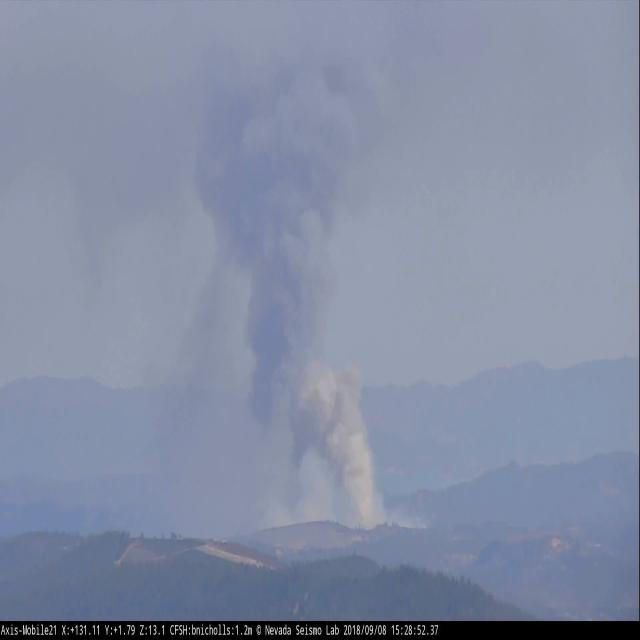smoke: (197, 47, 427, 530)
